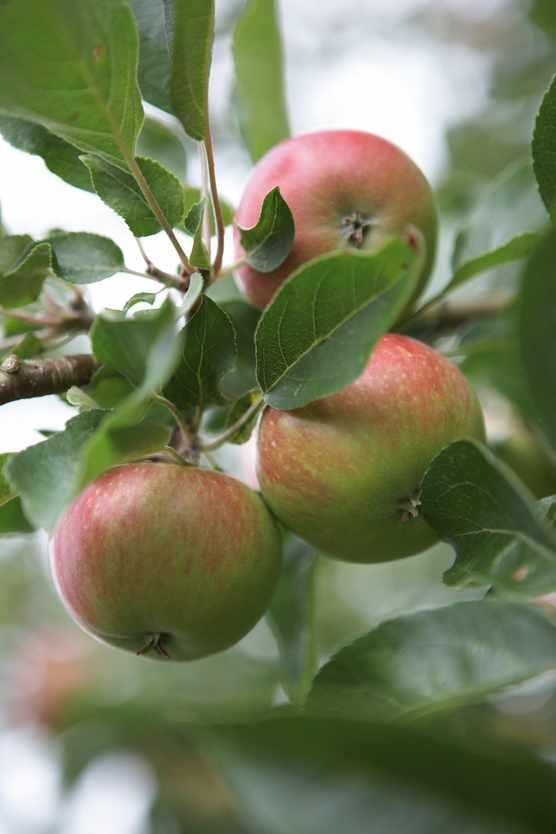apple: (261, 315, 496, 558), (45, 452, 283, 657), (231, 127, 442, 304)
